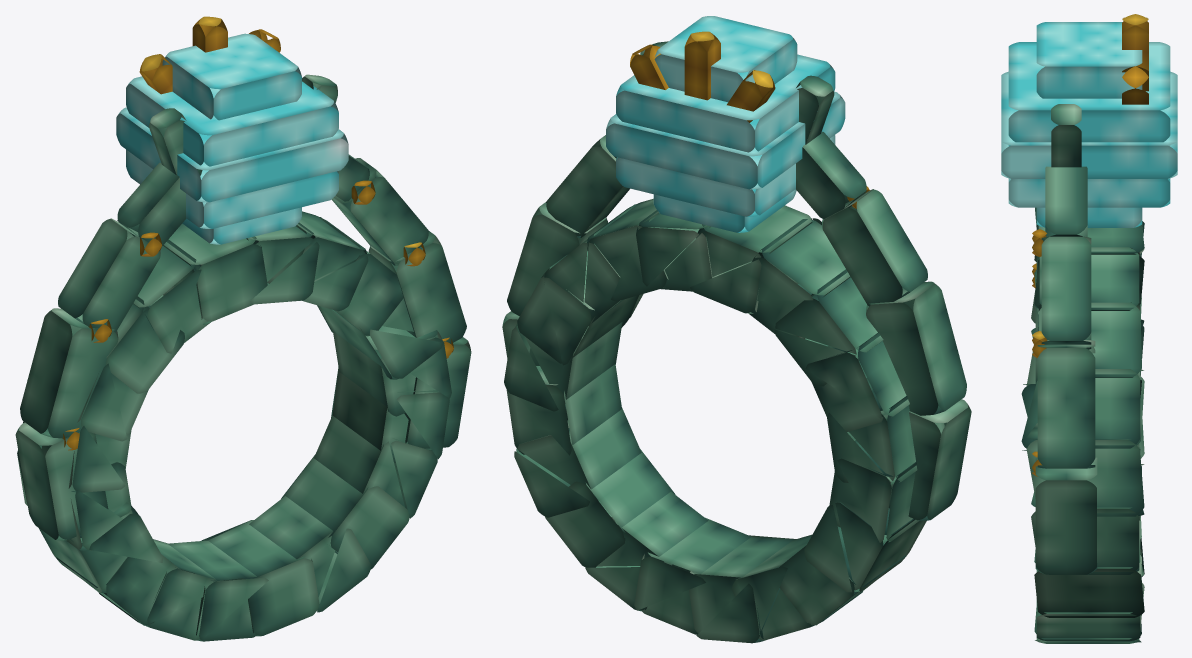
Rendered from ring_of_the_drowned_god.obj.
3 renders of one model, left to right at view 1: azimuth 30°, elevation 25°; view 2: azimuth 150°, elevation 25°; view 3: azimuth 270°, elevation 25°, orthographic. The views are drawn at different scales.
Visible parts, largest first — view 1: lit, fire; view 2: lit, fire; view 3: lit, fire.
Boxes of the visible parts, bbox=[...] form: lit: bbox=[15, 16, 471, 641]; fire: bbox=[116, 33, 348, 244]; lit: bbox=[502, 31, 971, 643]; fire: bbox=[606, 16, 845, 232]; lit: bbox=[1021, 14, 1148, 643]; fire: bbox=[1001, 22, 1177, 227].
Size of the model in its own units: 0.8371 by 1.09 by 0.2875.
